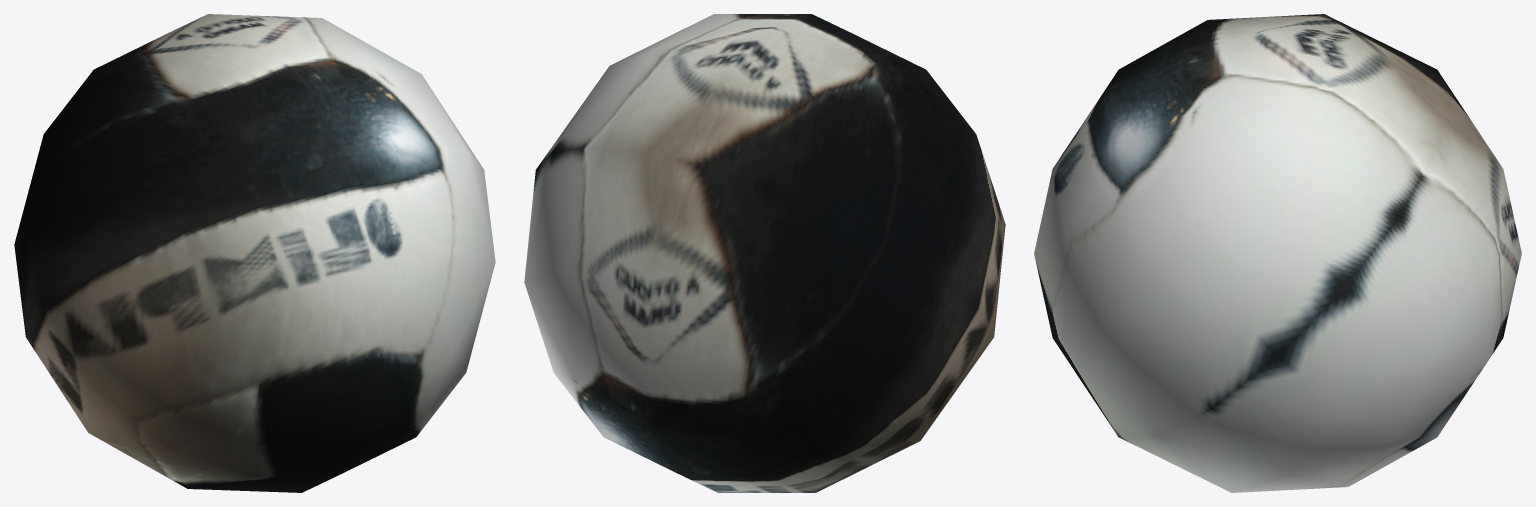
Rendered from balon_viejo_011.FBX.
The picture shows the model from 3 angles, left to right: view 1: azimuth 30°, elevation 25°; view 2: azimuth 150°, elevation 25°; view 3: azimuth 270°, elevation 25°; orthographic projection.
Visible parts, largest first — view 1: balon_viejo_011; view 2: balon_viejo_011; view 3: balon_viejo_011.
Part boxes in pixels (x1=…): balon_viejo_011: x1=14, y1=14, x2=495, y2=492; balon_viejo_011: x1=524, y1=14, x2=1005, y2=492; balon_viejo_011: x1=1034, y1=14, x2=1521, y2=492.
Size of the model in its own units: 26.98 by 26.98 by 26.98.
